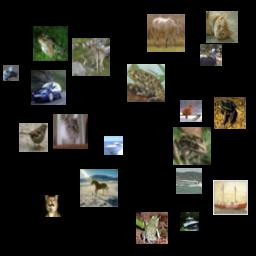automobile: (31, 70, 66, 105)
bird: (19, 123, 48, 152), (200, 44, 222, 66)
cat: (53, 114, 88, 149), (206, 11, 238, 43), (41, 195, 63, 217), (180, 100, 202, 122)
deer: (147, 14, 185, 52), (72, 38, 110, 76)
frog: (127, 64, 165, 102), (173, 127, 211, 165), (33, 26, 68, 61), (214, 97, 246, 129), (136, 212, 168, 244)
ship: (213, 180, 248, 215), (176, 168, 202, 194), (180, 212, 199, 231), (104, 136, 123, 155)
truck: (3, 65, 19, 81)
